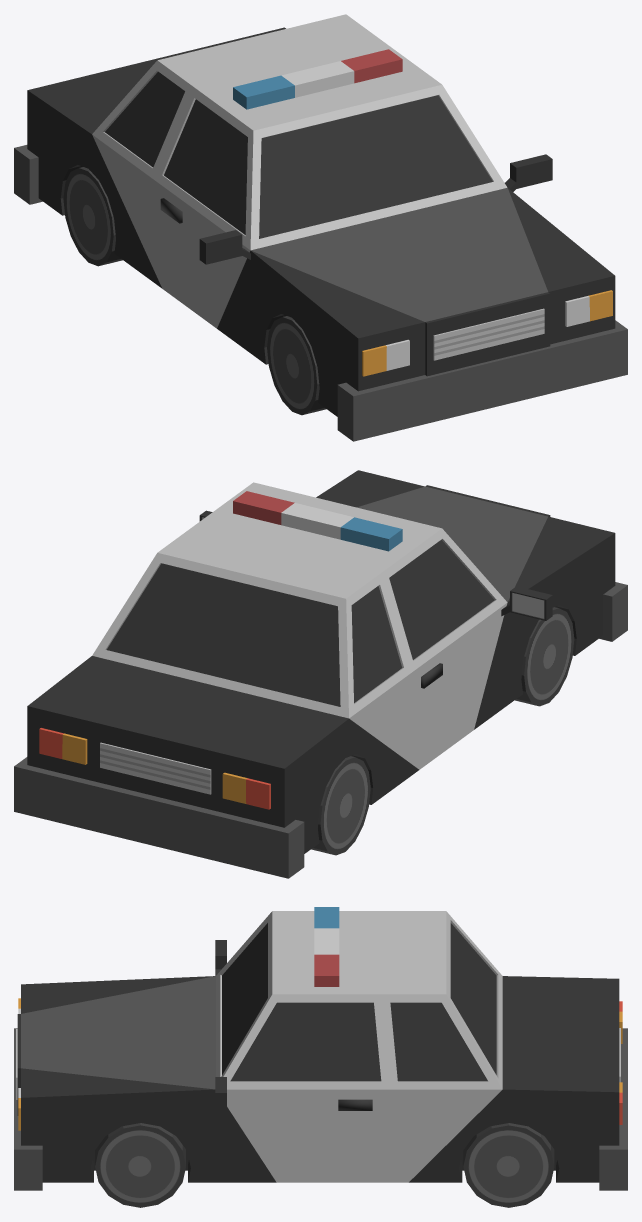
File: policeCar01_color01.fbx
3 views of the same model, one above another, from view 1: azimuth 30°, elevation 25°; view 2: azimuth 150°, elevation 25°; view 3: azimuth 270°, elevation 25° (orthographic). The views are drawn at different scales.
Visible parts, largest first — view 1: Cube.203, Cube.302, Cube.366; view 2: Cube.203, Cube.366, Cube.302; view 3: Cube.203, Cube.364, Cube.365.
Boxes of the visible parts, x1=… form: Cube.203: x1=14, y1=14, x2=627, y2=441; Cube.302: x1=267, y1=316, x2=326, y2=415; Cube.366: x1=63, y1=167, x2=122, y2=266; Cube.203: x1=14, y1=470, x2=627, y2=878; Cube.366: x1=311, y1=756, x2=370, y2=855; Cube.302: x1=515, y1=607, x2=574, y2=706; Cube.203: x1=14, y1=907, x2=627, y2=1190; Cube.364: x1=463, y1=1123, x2=554, y2=1207; Cube.365: x1=95, y1=1123, x2=185, y2=1207.
Size of the model in its own units: 270 by 172 by 457.
